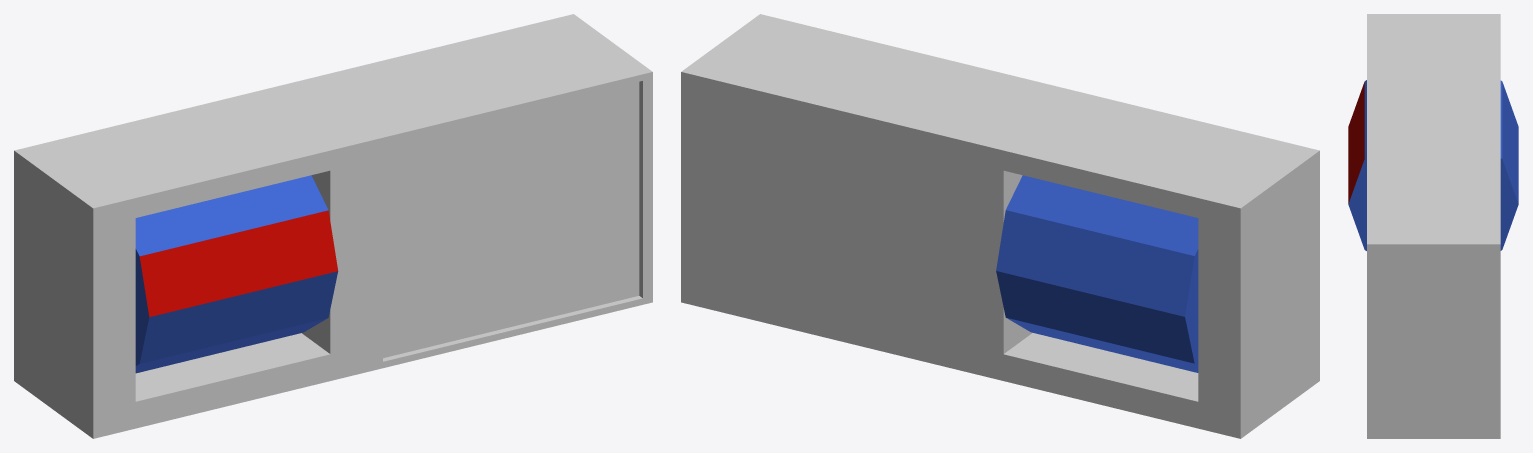
File: Wheel.fbx
3 views of the same model, side by side, from view 1: azimuth 30°, elevation 25°; view 2: azimuth 150°, elevation 25°; view 3: azimuth 270°, elevation 25° (orthographic). The views are drawn at different scales.
Visible parts, largest first — view 1: Cube.001, Cube, Cylinder; view 2: Cube.001, Cube, Cylinder; view 3: Cube.001, Cube, Cylinder.
Part boxes in pixels (left/top/right/bottom): Cube.001: left=294, top=14, right=652, bottom=370; Cube: left=14, top=82, right=372, bottom=438; Cylinder: left=135, top=175, right=338, bottom=373; Cube.001: left=681, top=14, right=1039, bottom=370; Cube: left=961, top=82, right=1319, bottom=438; Cylinder: left=996, top=175, right=1198, bottom=372; Cube.001: left=1367, top=129, right=1500, bottom=438; Cube: left=1367, top=14, right=1500, bottom=129; Cylinder: left=1348, top=80, right=1518, bottom=250.
Bounding box in the file's own units: 640 × 252 × 200.
